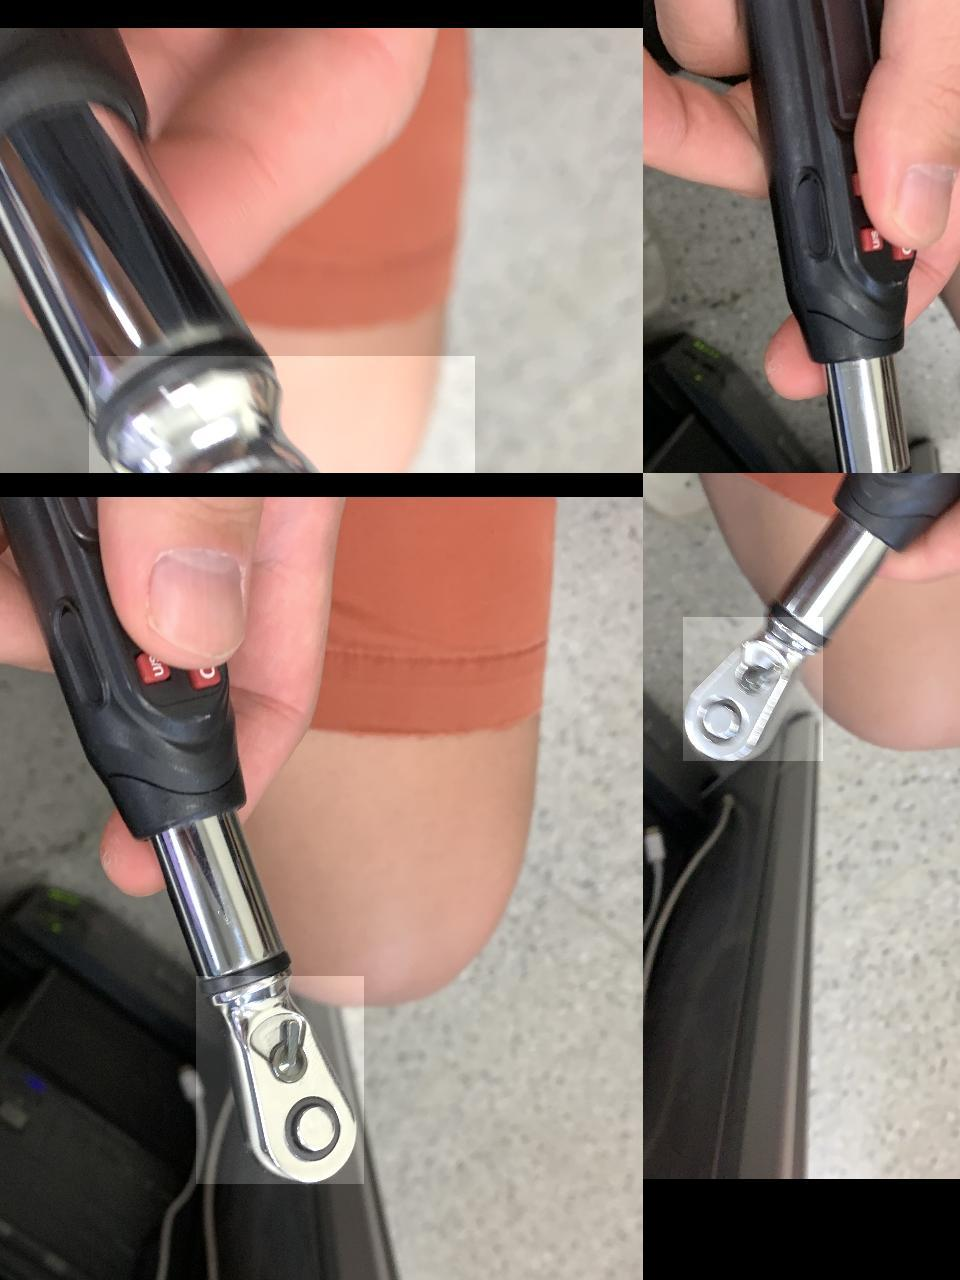Tool: (88, 356, 474, 473), (195, 976, 363, 1184), (682, 617, 822, 761)
